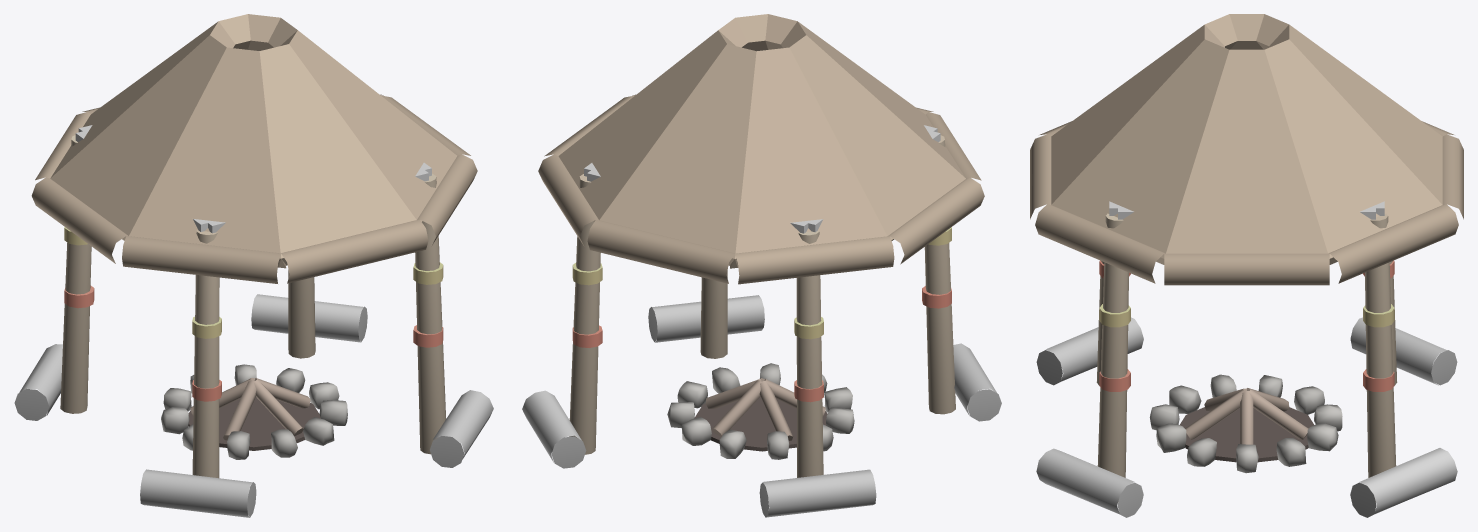
The model's file is hw_hearth_pavilion.glb.
3 views of the same model, side by side, from view 1: azimuth 30°, elevation 25°; view 2: azimuth 150°, elevation 25°; view 3: azimuth 270°, elevation 25° (orthographic). The views are drawn at different scales.
Parts seen in each view (by area): view 1: Building; view 2: Building; view 3: Building.
Boxes of the visible parts, x1=… form: Building: x1=14, y1=14, x2=493, y2=517; Building: x1=522, y1=14, x2=1001, y2=517; Building: x1=1030, y1=14, x2=1463, y2=517.
Bounding box in the file's own units: 3.03 × 3.15 × 3.03.
